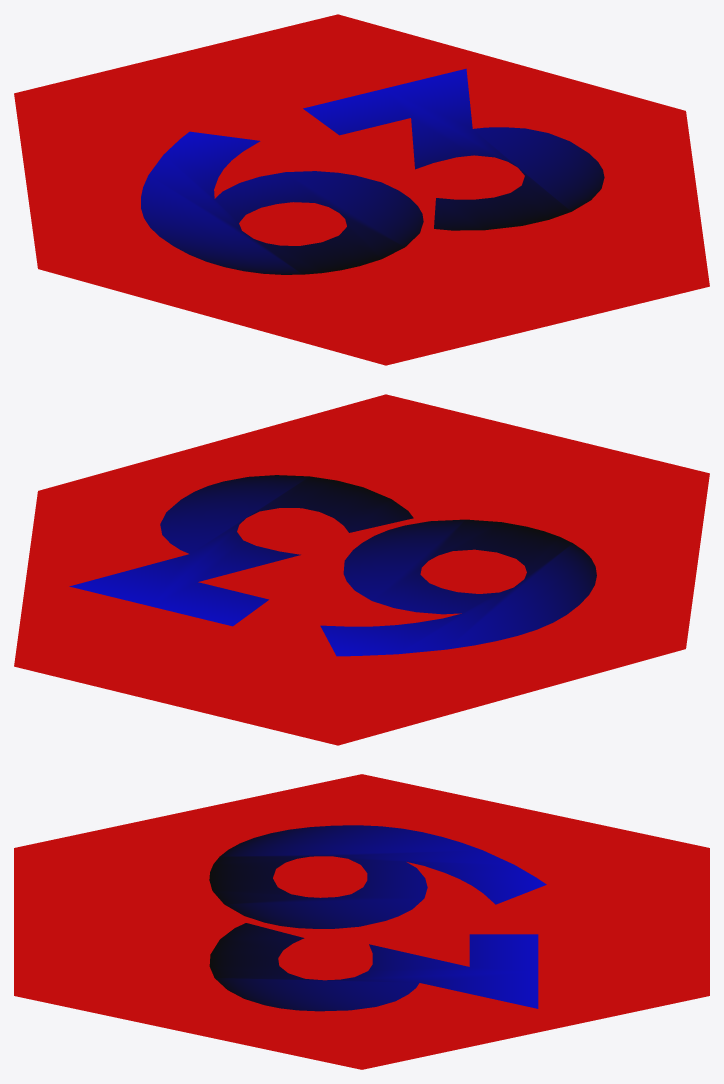
File: SM_Number_63.fbx
3 renders of one model, top to bottom at view 1: azimuth 30°, elevation 25°; view 2: azimuth 150°, elevation 25°; view 3: azimuth 270°, elevation 25°, orthographic. The views are drawn at different scales.
Visible parts, largest first — view 1: FBX_OUT; view 2: FBX_OUT; view 3: FBX_OUT.
Part boxes in pixels (x1,y1,x2,y2): FBX_OUT: (14,14,709,365); FBX_OUT: (14,394,709,745); FBX_OUT: (14,774,709,1069).
Bounding box in the file's own units: 50 × 0.2917 × 49.71.
